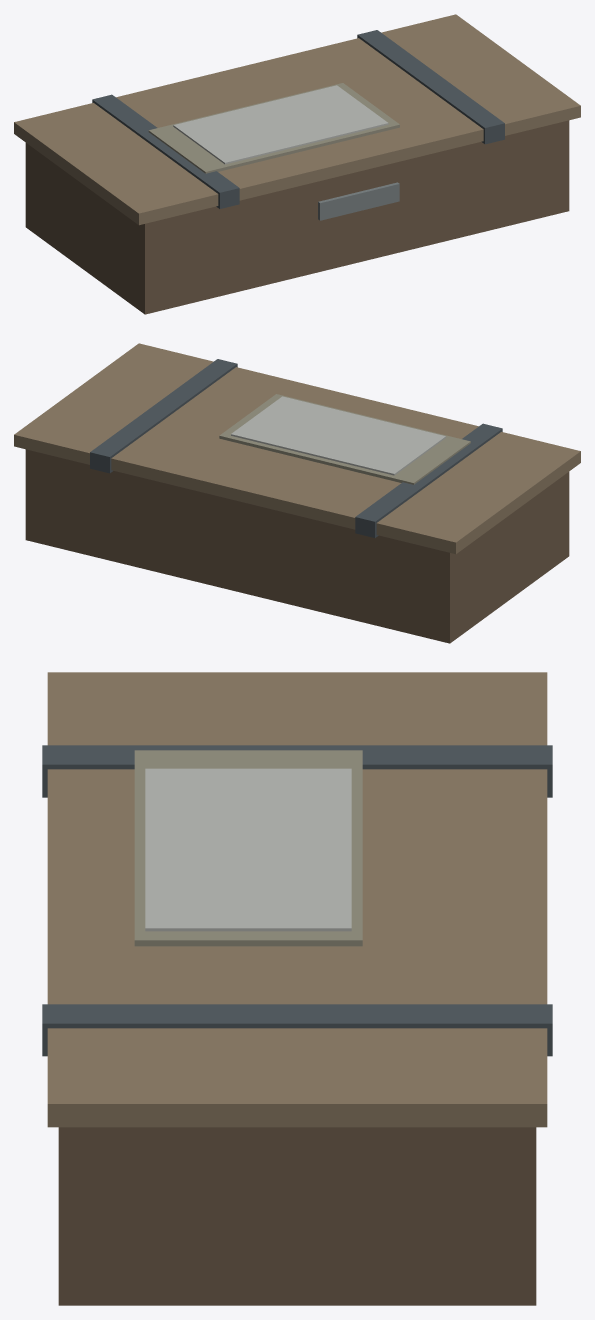
The model's file is ration_ledger_chest.glb.
3 views of the same model, one above another, from view 1: azimuth 30°, elevation 25°; view 2: azimuth 150°, elevation 25°; view 3: azimuth 270°, elevation 25° (orthographic). The views are drawn at different scales.
Visible parts, largest first — view 1: ration_ledger_chest; view 2: ration_ledger_chest; view 3: ration_ledger_chest.
Boxes of the visible parts, x1,y1,x2,y2 form: ration_ledger_chest: (14,14,580,314); ration_ledger_chest: (14,343,580,643); ration_ledger_chest: (42,672,552,1305).
Size of the model in its own units: 2 by 0.48 by 1.
